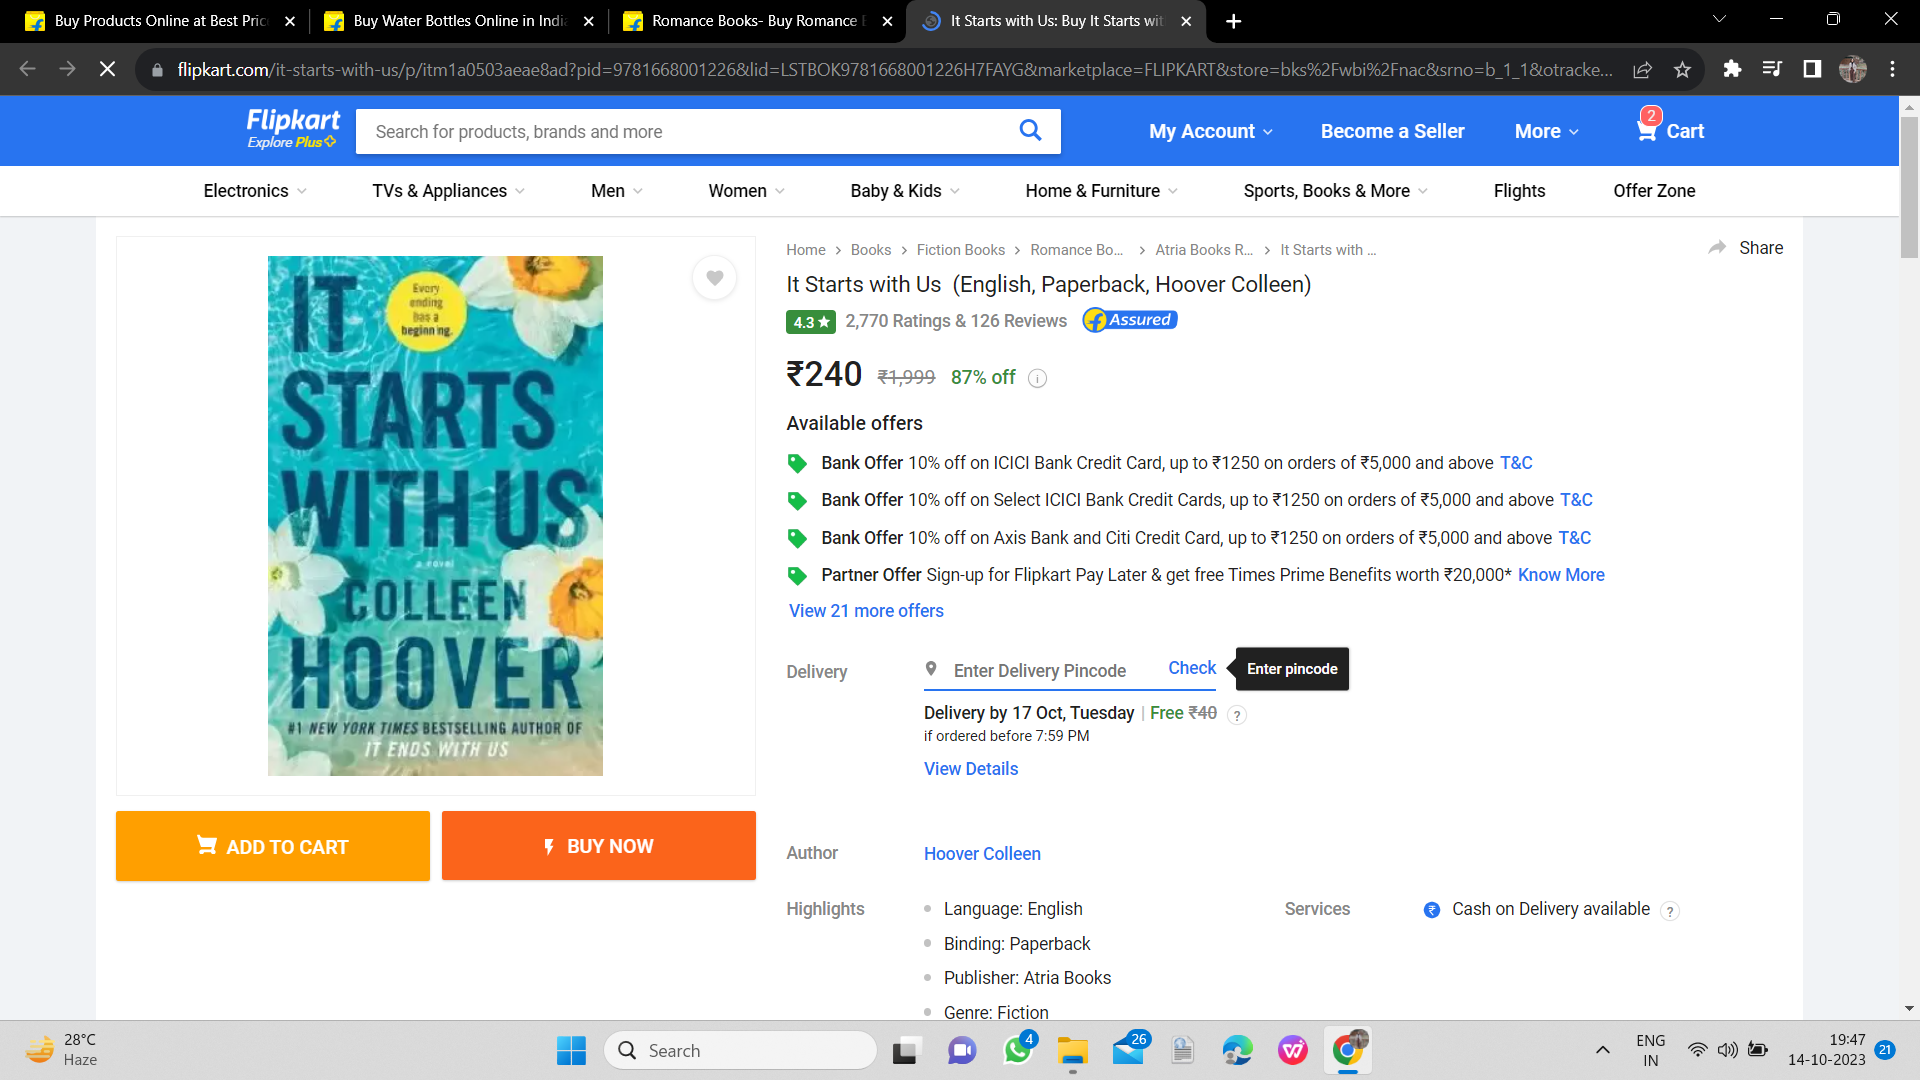Image: (177, 241, 748, 786), (342, 99, 1069, 160)
Paragraph: (779, 451, 1625, 632), (107, 811, 773, 882), (775, 890, 1121, 1023), (1137, 99, 1726, 156), (775, 262, 1337, 303), (914, 651, 1356, 694), (1266, 889, 1659, 931), (773, 301, 1185, 335), (766, 344, 1027, 393), (783, 831, 1062, 865), (910, 696, 1142, 728), (773, 407, 931, 435), (779, 654, 852, 692)
